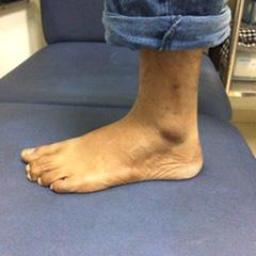Lateral View -Left Foot-: (15, 97, 215, 200)
